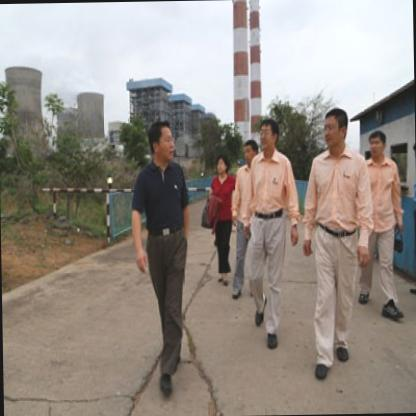sem_capacete: (143, 115, 177, 168), (322, 105, 349, 151), (256, 117, 280, 152), (367, 128, 387, 158), (241, 138, 260, 165), (215, 150, 229, 178)
sem_colete_refletivo: (300, 145, 374, 241), (128, 160, 192, 245), (245, 147, 300, 229), (362, 156, 407, 230), (228, 159, 260, 230), (205, 172, 236, 230)
